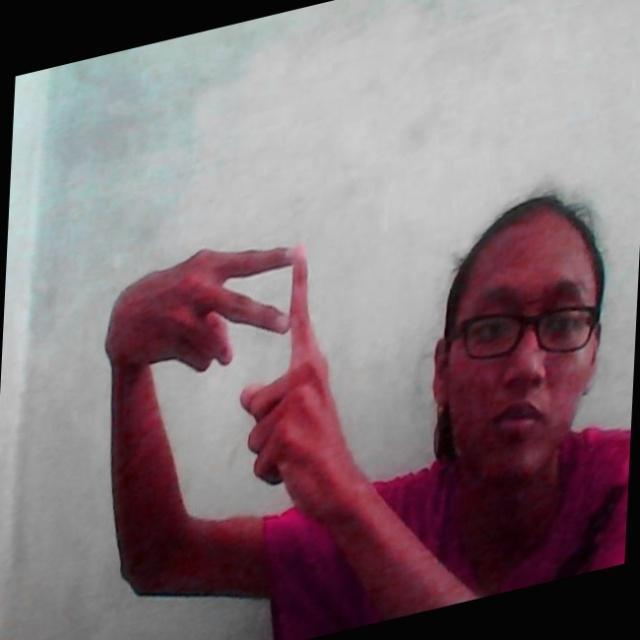P: (209, 242, 341, 490)
